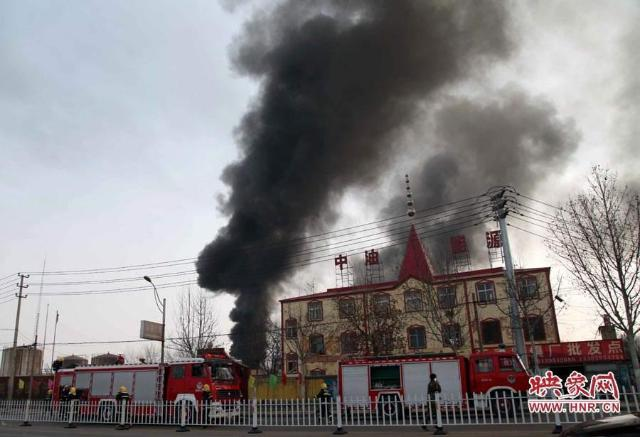smoke: (309, 1, 396, 157), (436, 97, 564, 183), (401, 4, 517, 91), (222, 159, 344, 218), (198, 226, 308, 282), (239, 71, 305, 154), (232, 0, 298, 71), (225, 289, 273, 362), (383, 173, 451, 218)
